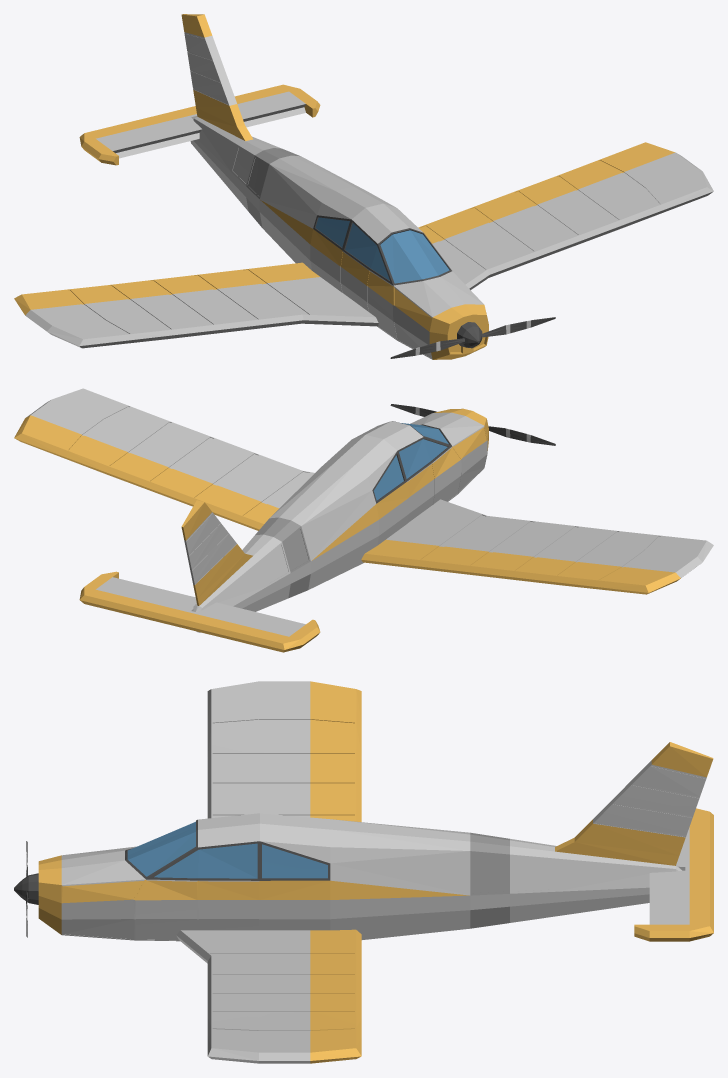
The picture shows the model from 3 angles, top to bottom: view 1: azimuth 30°, elevation 25°; view 2: azimuth 150°, elevation 25°; view 3: azimuth 270°, elevation 25°; orthographic projection. The views are drawn at different scales.
Visible parts, largest first — view 1: plane002_body.001, plane 002_propeller.001; view 2: plane002_body.001, plane 002_propeller.001; view 3: plane002_body.001, plane 002_propeller.001.
Boxes of the visible parts, x1,y1,x2,y2 form: plane002_body.001: (14,14,713,359); plane 002_propeller.001: (390,317,555,358); plane002_body.001: (14,388,713,652); plane 002_propeller.001: (390,404,555,445); plane002_body.001: (38,681,713,1063); plane 002_propeller.001: (14,841,38,937).
Bounding box in the file's own units: 14.15 × 3.28 × 11.09.
